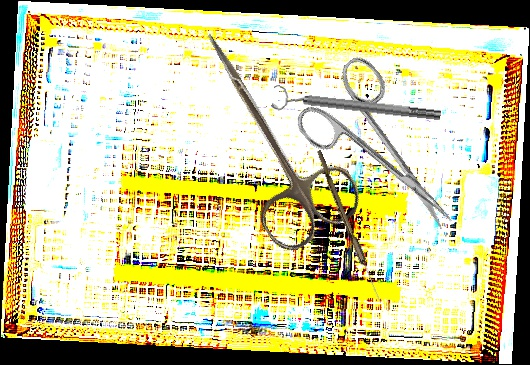Fixation Ring: (270, 82, 443, 131)
Iris Scissors: (161, 10, 370, 259), (286, 51, 482, 259)
Surgical Spoon: (313, 149, 385, 305)
